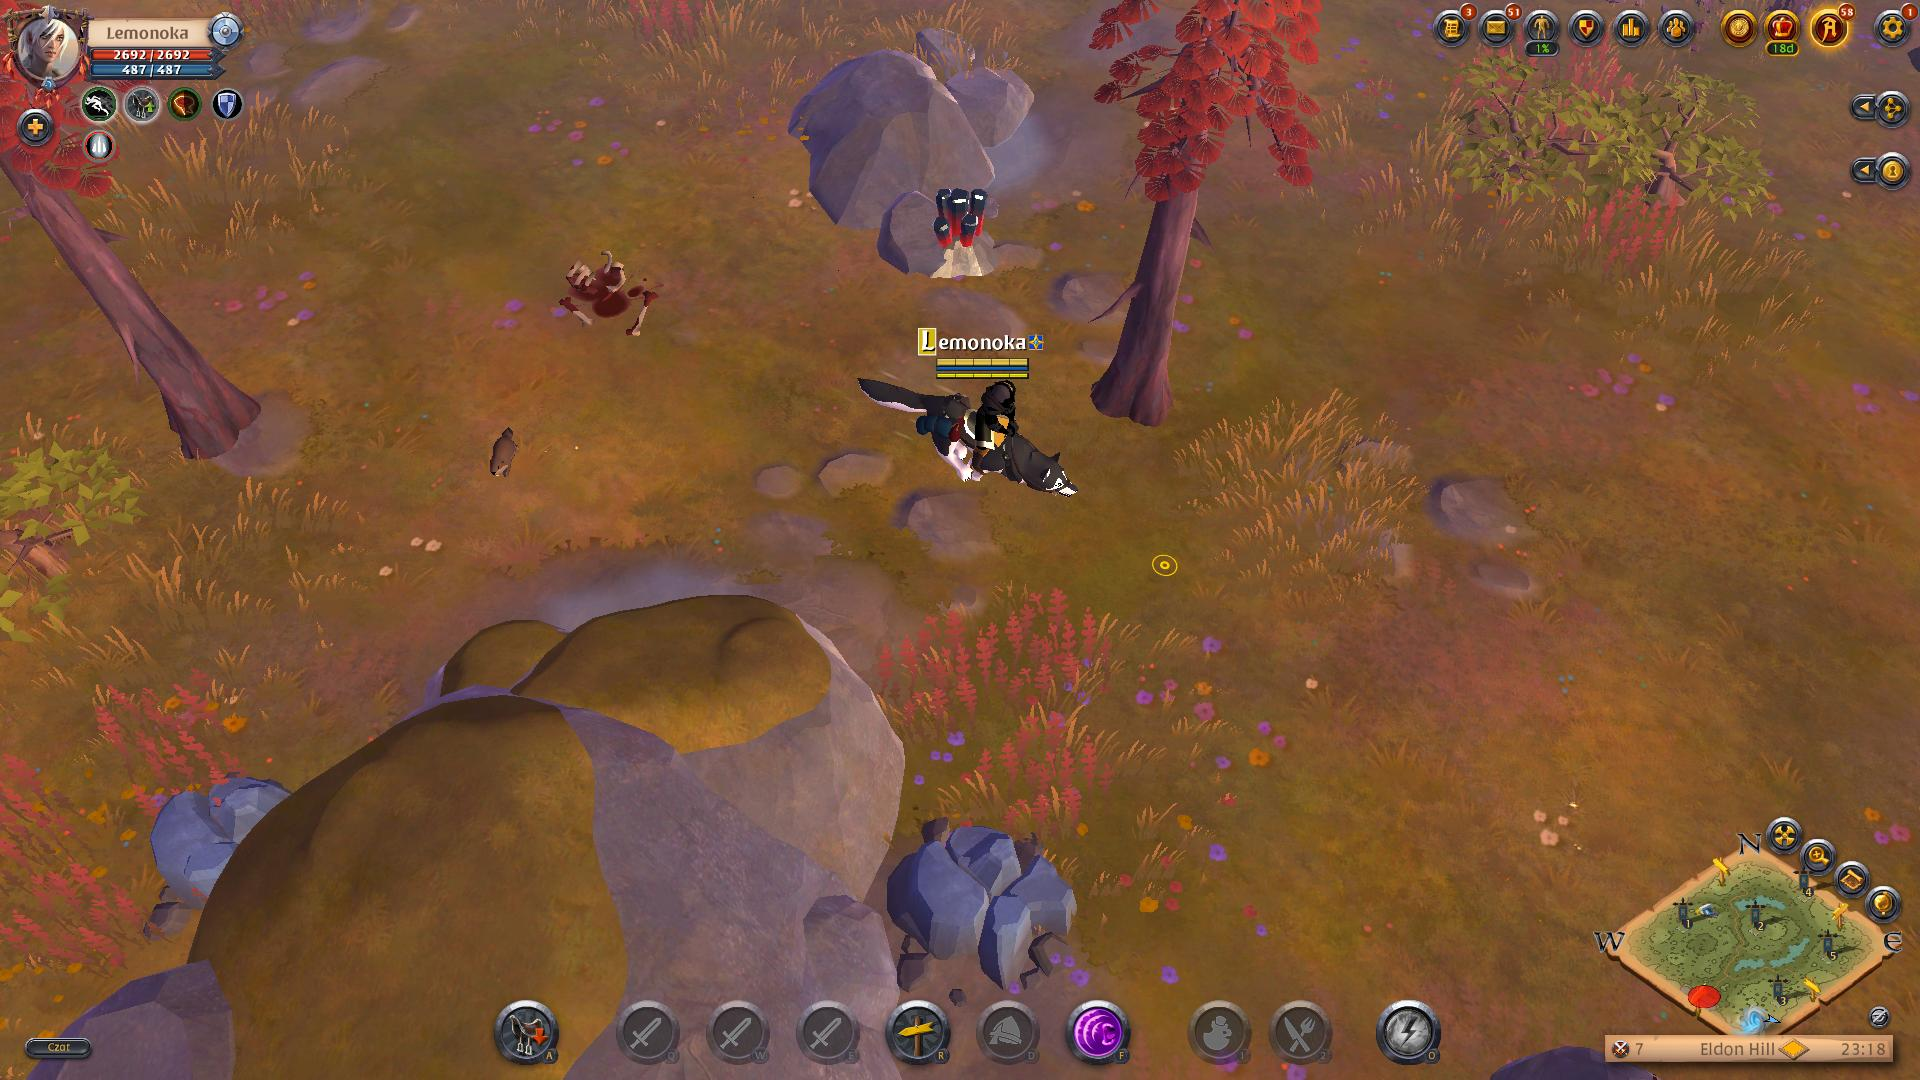ore tier 5: (911, 182, 1005, 285)
rock tier 4: (877, 810, 1079, 997)
wood tier 5: (1085, 0, 1328, 229)
